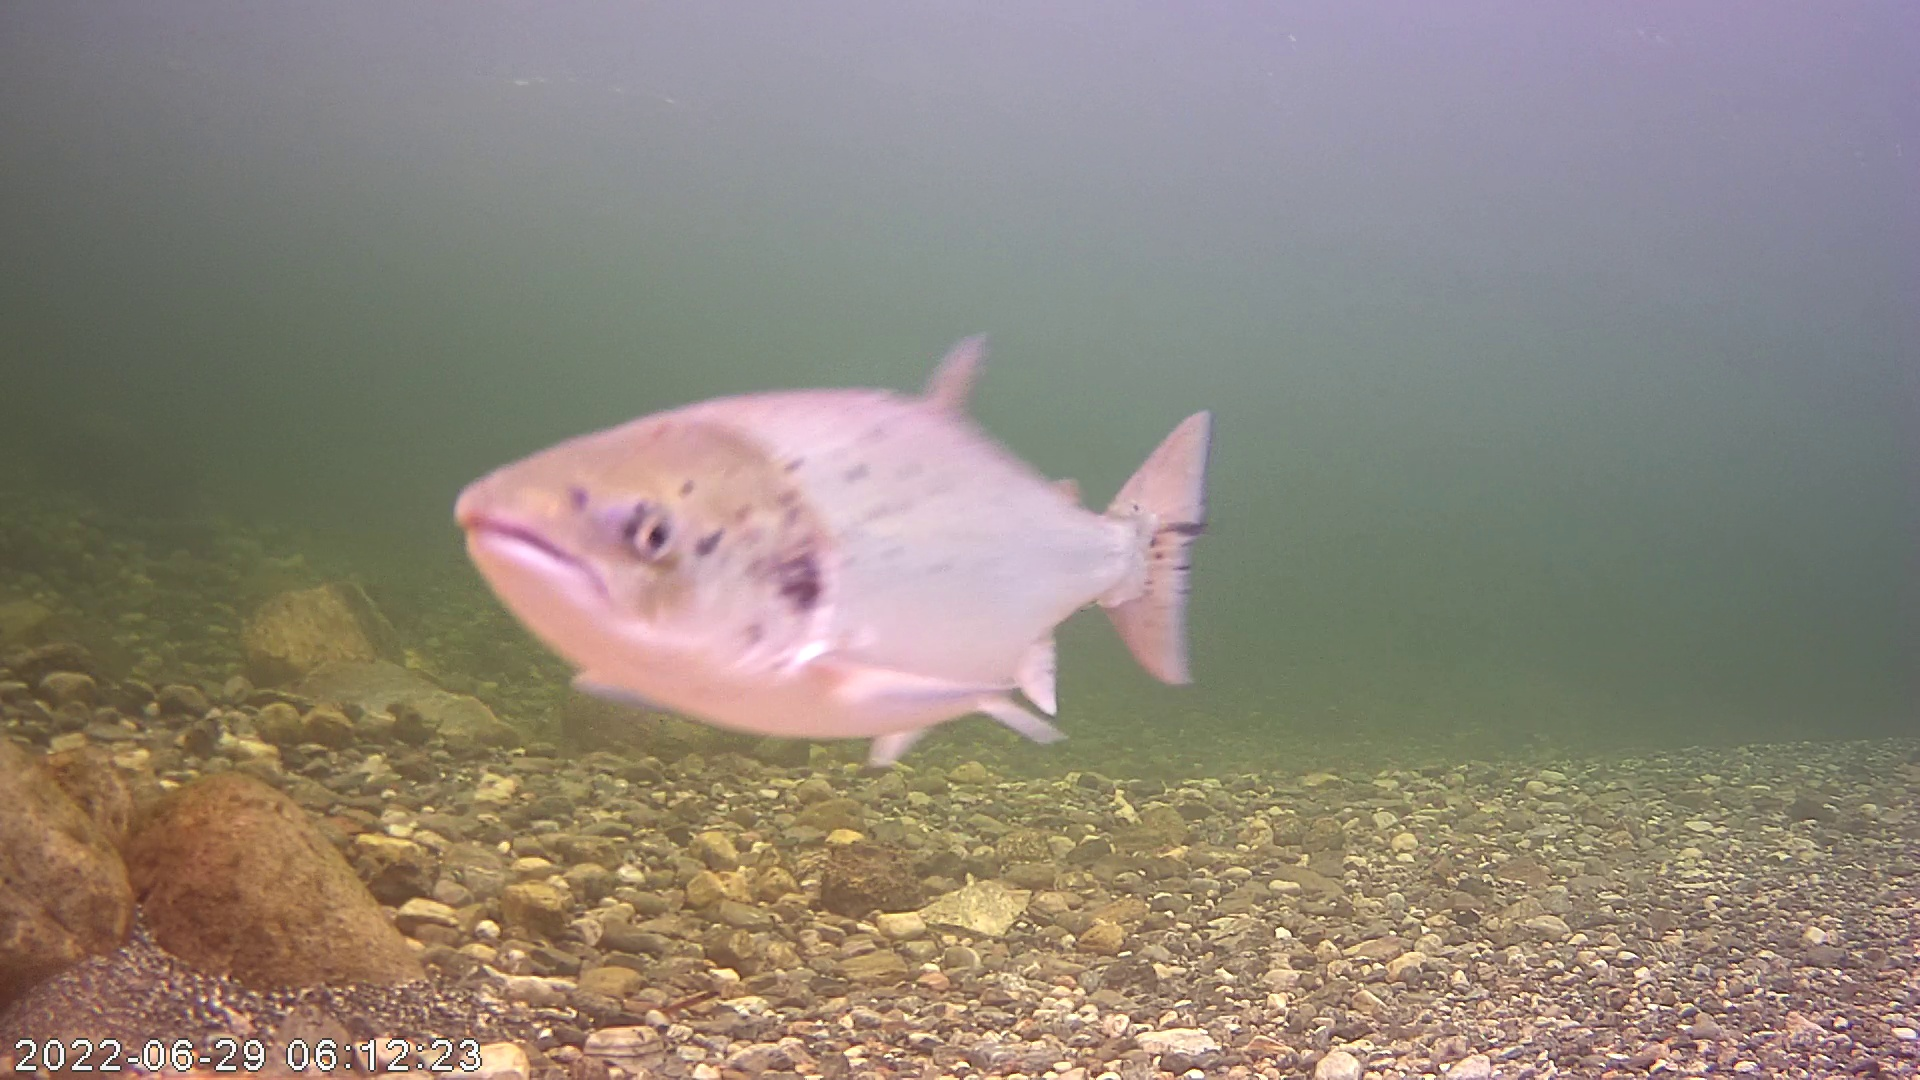salmon: (440, 298, 1222, 764)
